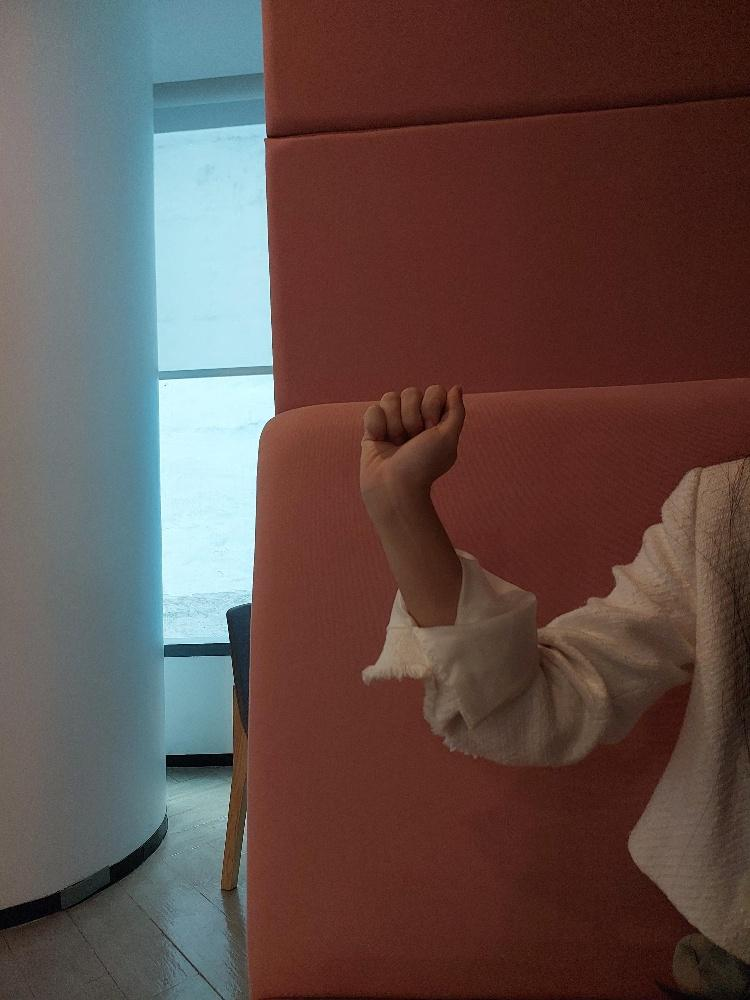a: (357, 383, 465, 491)
